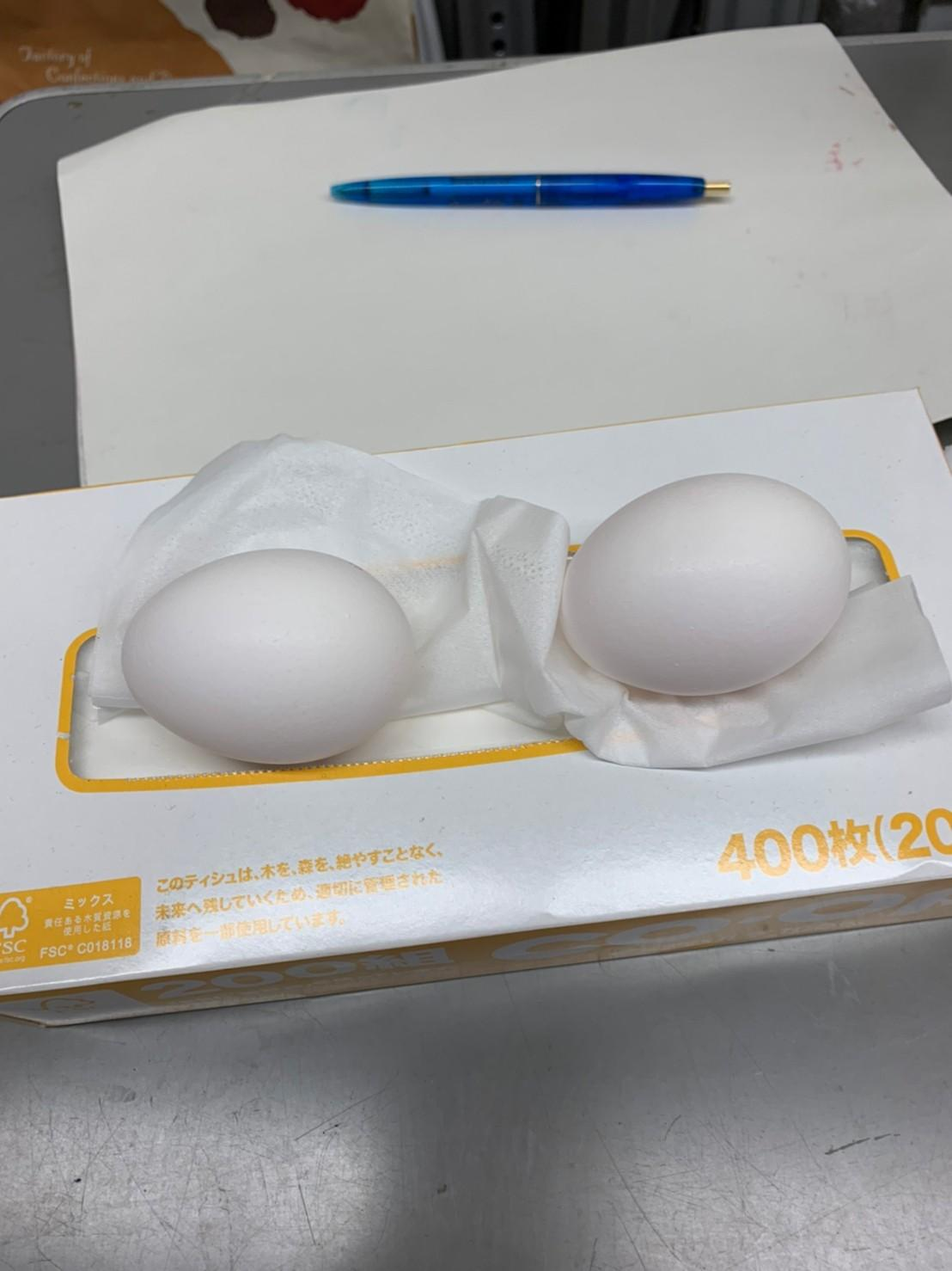egg: (557, 463, 853, 698), (115, 543, 415, 772)
